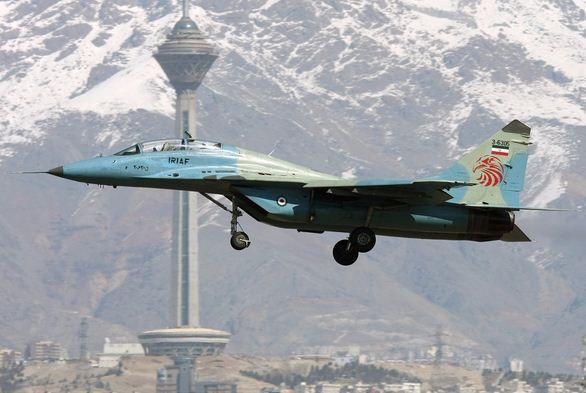Iran: (489, 146, 512, 156)
Mig-29: (33, 90, 557, 303)
